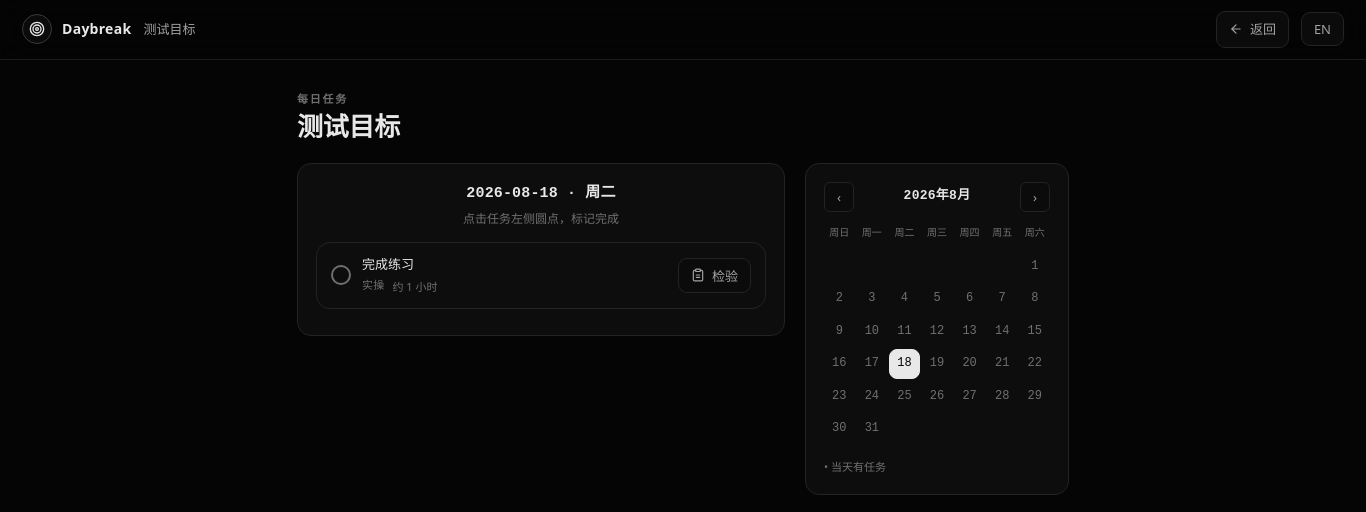
Test: DailyTasks completion control › turns the outlined circle into a filled check control after completion
The width and height of the screenshot is (1366, 512).
Click the button named "标记完成" at (341, 275), box [331, 265, 351, 285]
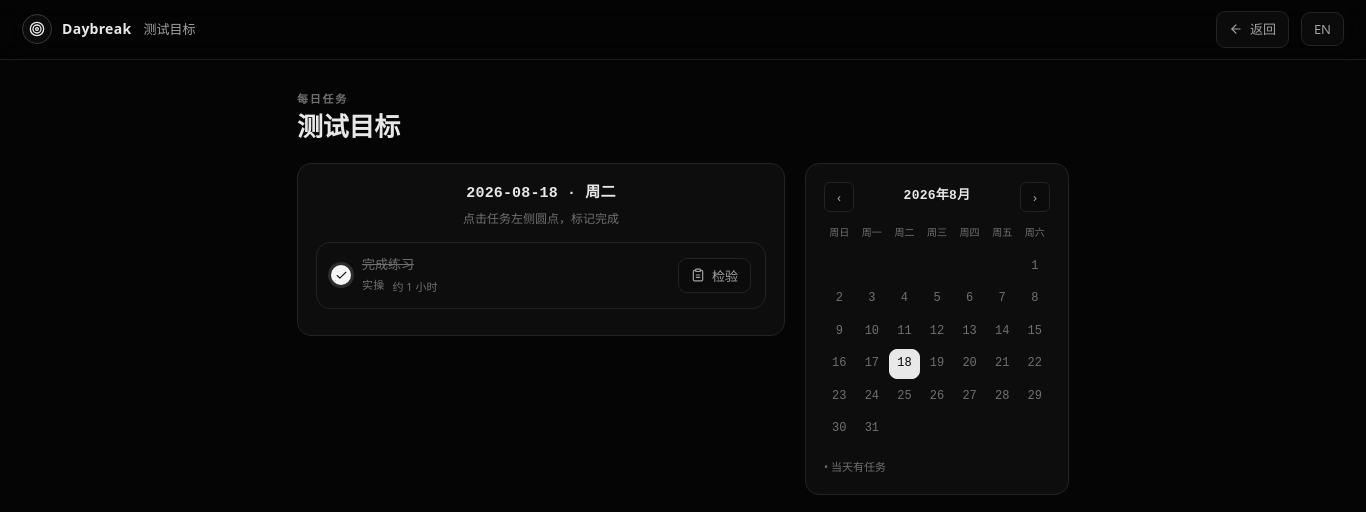
expect the 3rd icon is shown: met, box [334, 269, 348, 282]
